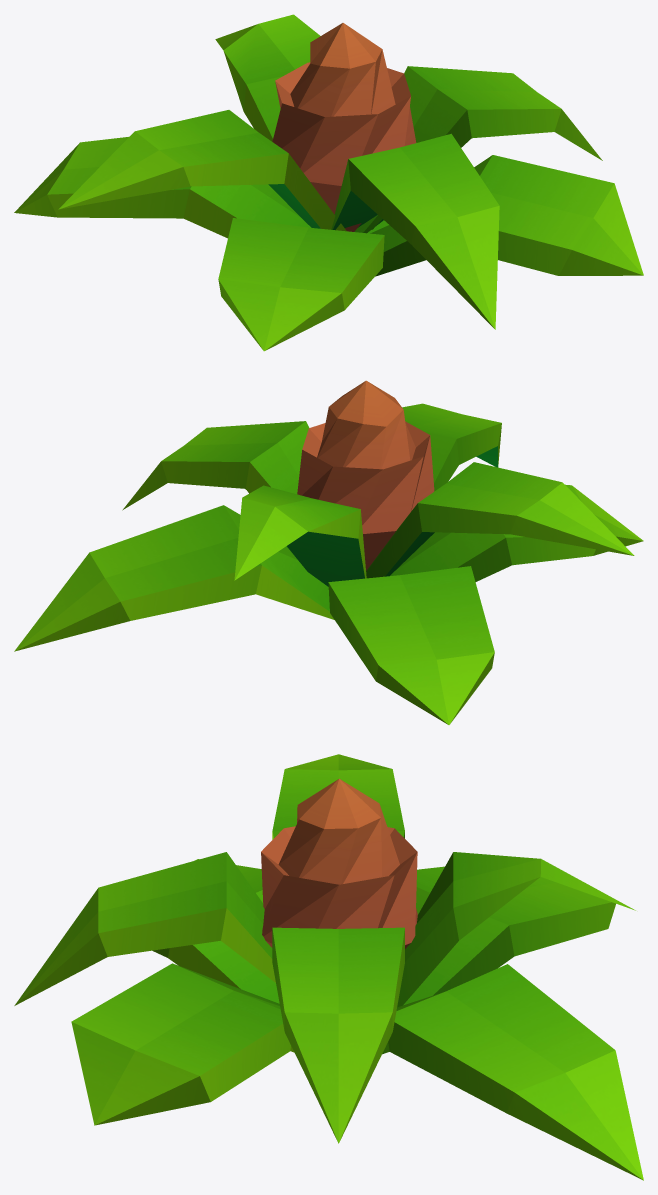
Rendered from GL-Plant-01-LOD2.fbx.
3 renders of one model, top to bottom at view 1: azimuth 30°, elevation 25°; view 2: azimuth 150°, elevation 25°; view 3: azimuth 270°, elevation 25°, orthographic. The views are drawn at different scales.
Visible parts, largest first — view 1: GL_Plant_01; view 2: GL_Plant_01; view 3: GL_Plant_01.
Boxes of the visible parts, bbox=[...] form: GL_Plant_01: bbox=[14, 14, 643, 351]; GL_Plant_01: bbox=[14, 380, 643, 724]; GL_Plant_01: bbox=[14, 754, 643, 1180].
Size of the model in its own units: 2 by 0.8632 by 1.8.
